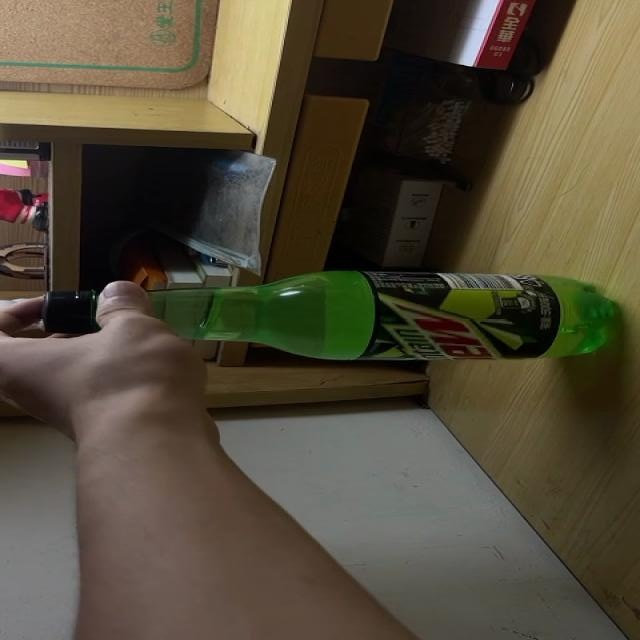Mountain-Dew: (40, 270, 621, 361)
